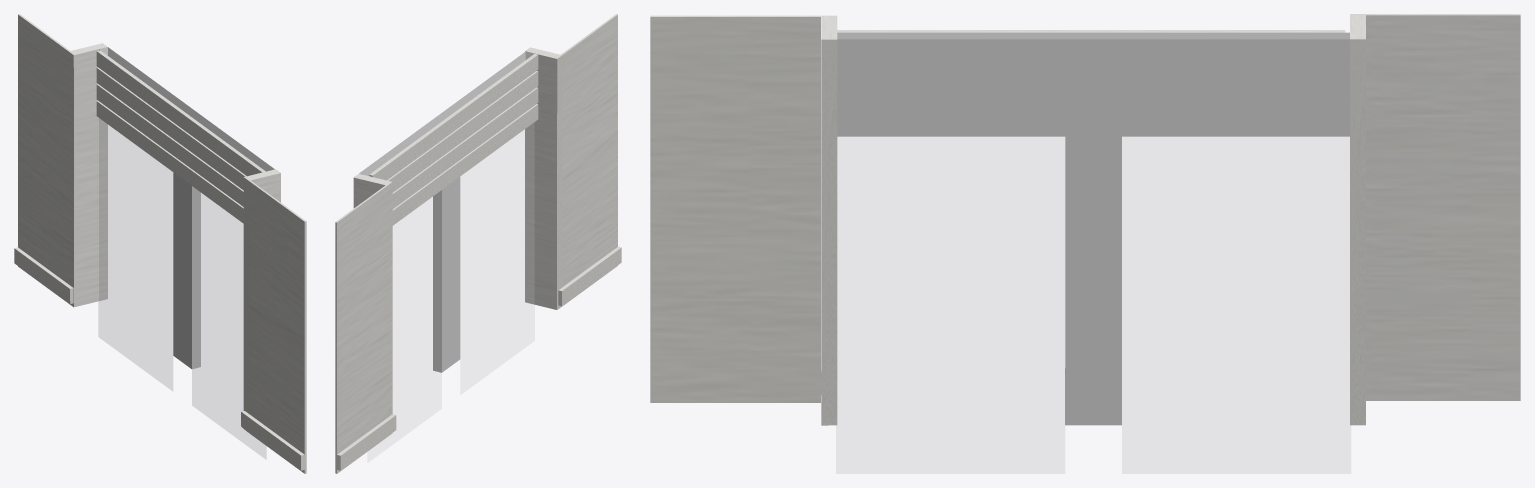
File: Muhammad'sRoomFront 1.fbx
3 views of the same model, side by side, from view 1: azimuth 30°, elevation 25°; view 2: azimuth 150°, elevation 25°; view 3: azimuth 270°, elevation 25° (orthographic). The views are drawn at different scales.
Parts seen in each view (by area): view 1: Cube.182; view 2: Cube.182; view 3: Cube.182.
Part boxes in pixels (bbox=[...]): Cube.182: bbox=[14, 14, 306, 473]; Cube.182: bbox=[335, 14, 621, 473]; Cube.182: bbox=[650, 14, 1520, 473].
Size of the model in its own units: 52.95 by 381 by 680.
